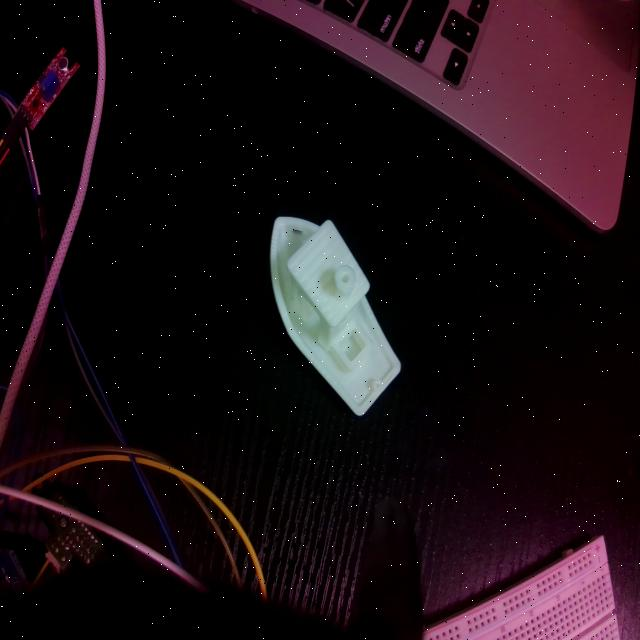ship: (269, 213, 402, 419)
